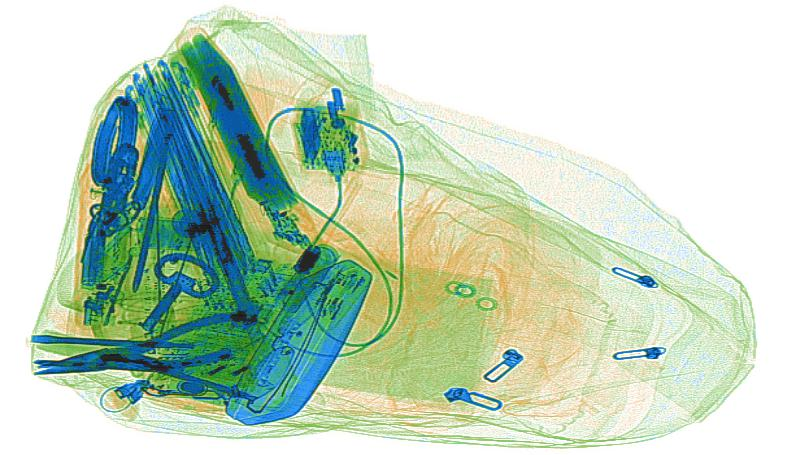battery: (274, 242, 337, 314), (134, 215, 205, 253), (78, 227, 107, 289)
